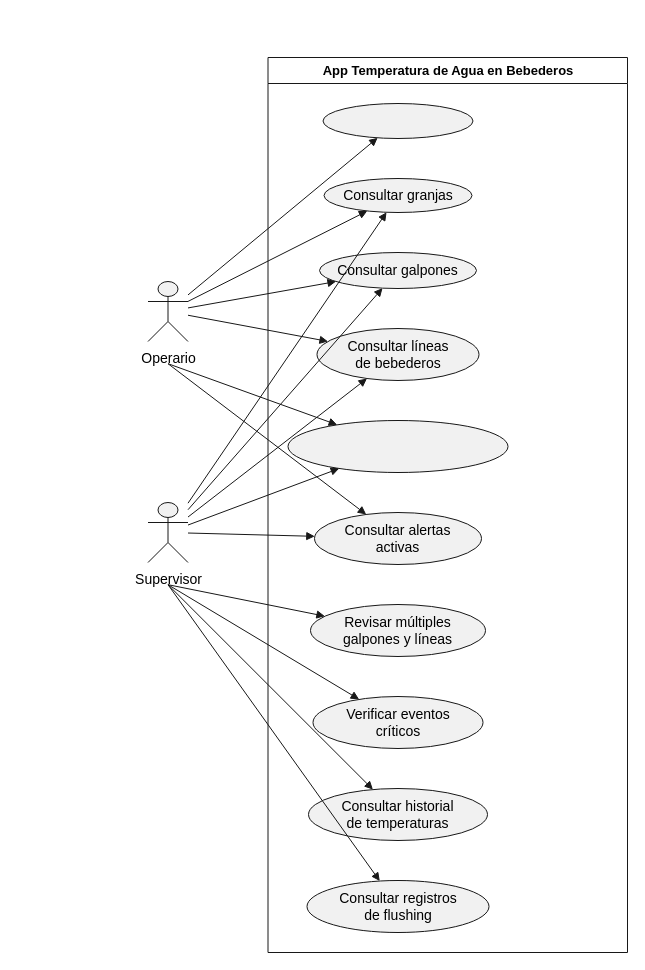
Some shapes in this 645 by 970 pixel diagram are drawn without their labels. The shapes that lost their labels are listed below. From the top down, each one's centre as x and y in pixels, then its label:
At point 397,120: "Registrar flushing".
At point 397,446: "Consultar temperatura actual".
